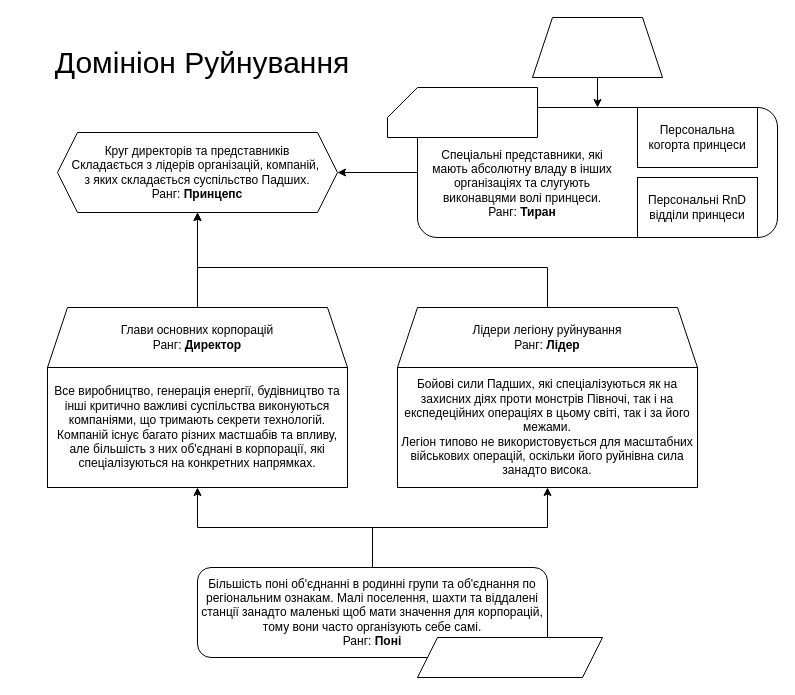
This 795x695 diagram has some shape labels left out. Here are the shapes that lost their labels. From the top down, the box of each, then its label:
(532, 16, 662, 78): Мунлайт Шадоу Ранг: Принцеса
(386, 86, 538, 138): Королевський двір
(416, 636, 602, 678): Основні маси поні
